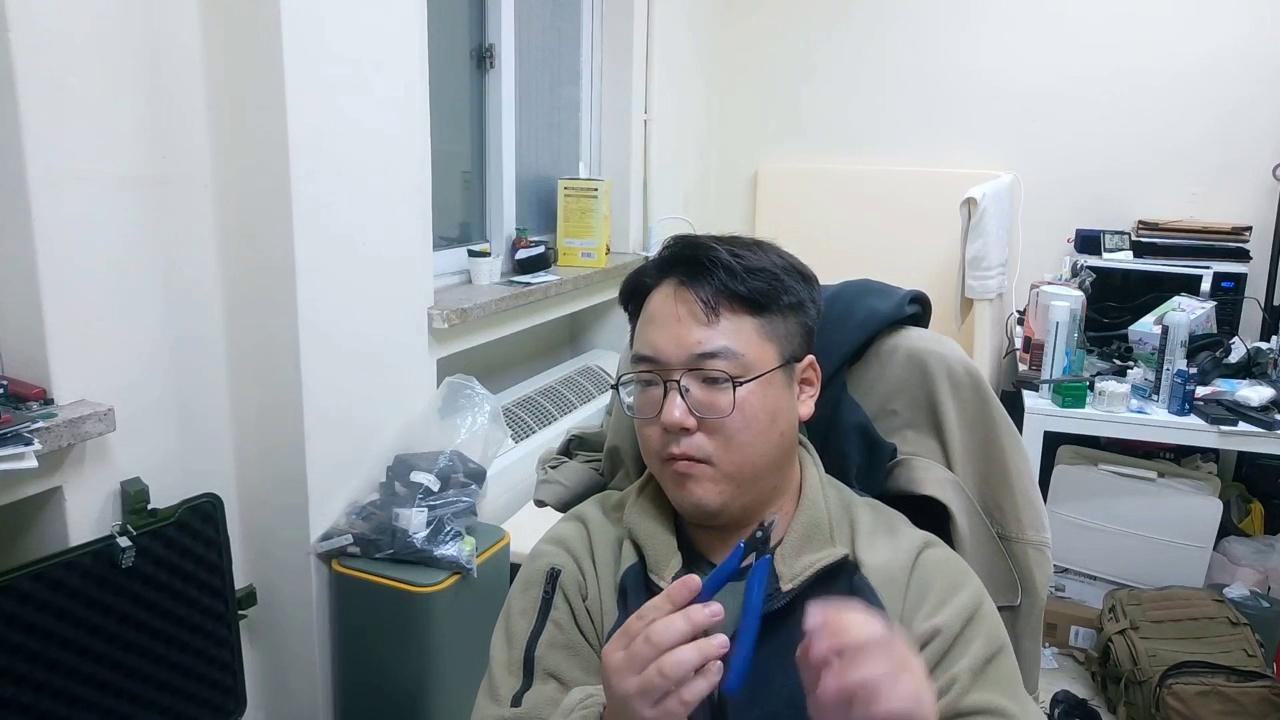blue_pliers: (689, 515, 780, 699)
